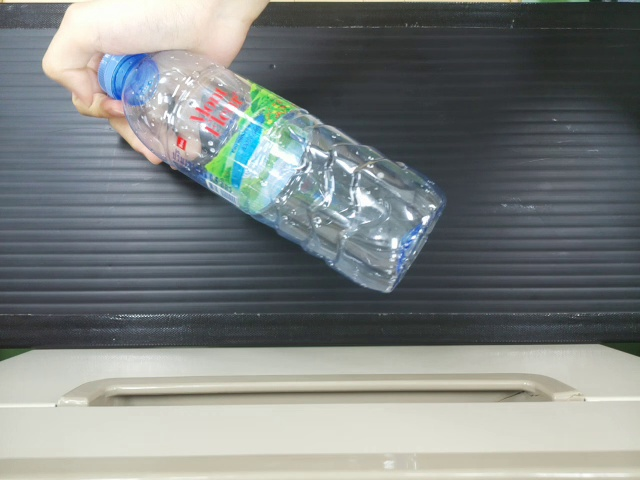bottle: (93, 43, 444, 293)
